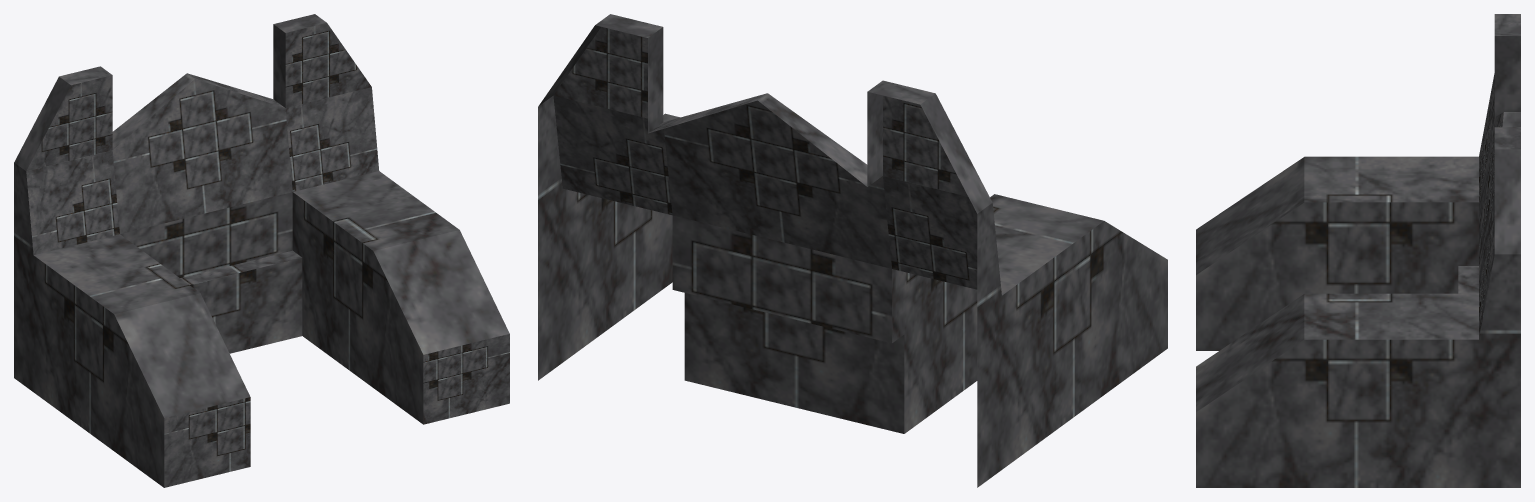
3 renders of one model, left to right at view 1: azimuth 30°, elevation 25°; view 2: azimuth 150°, elevation 25°; view 3: azimuth 270°, elevation 25°, orthographic. The views are drawn at different scales.
Visible parts, largest first — view 1: a65; view 2: a65; view 3: a65.
Part boxes in pixels (x1=…): a65: x1=14, y1=14, x2=509, y2=487; a65: x1=538, y1=14, x2=1167, y2=487; a65: x1=1196, y1=14, x2=1520, y2=487.
Size of the model in its own units: 1016 by 817 by 764.
